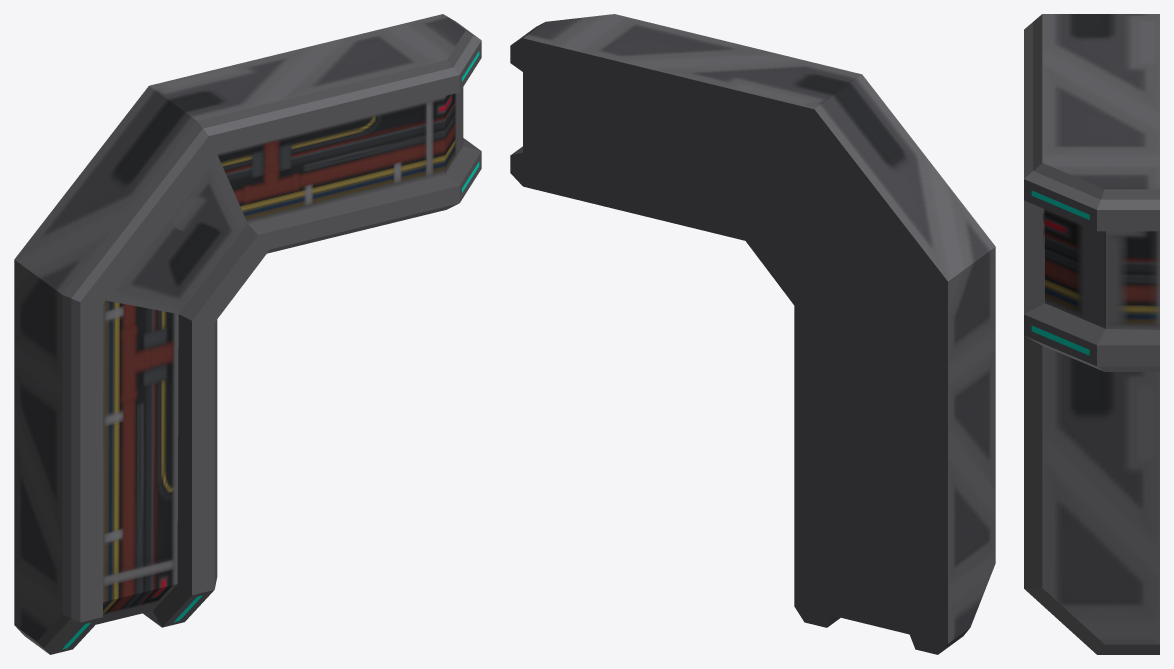
The model's file is SM_Prop_Greebles_02.fbx.
3 views of the same model, side by side, from view 1: azimuth 30°, elevation 25°; view 2: azimuth 150°, elevation 25°; view 3: azimuth 270°, elevation 25° (orthographic). The views are drawn at different scales.
Parts seen in each view (by area): view 1: SM_Prop_Greebles_02; view 2: SM_Prop_Greebles_02; view 3: SM_Prop_Greebles_02.
Part boxes in pixels (x1,y1,x2,y2): SM_Prop_Greebles_02: [14, 14, 481, 654]; SM_Prop_Greebles_02: [510, 14, 995, 654]; SM_Prop_Greebles_02: [1024, 14, 1159, 654].
Size of the model in its own units: 138 by 156 by 30.19.
